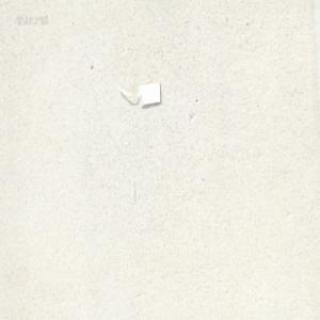LuggageTagtrack_idkeyframe: (114, 78, 161, 107)
